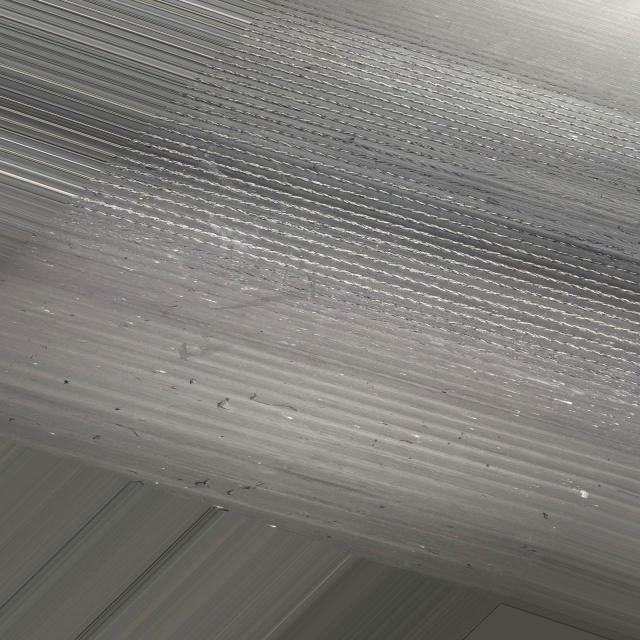Wear: (74, 4, 632, 368)
